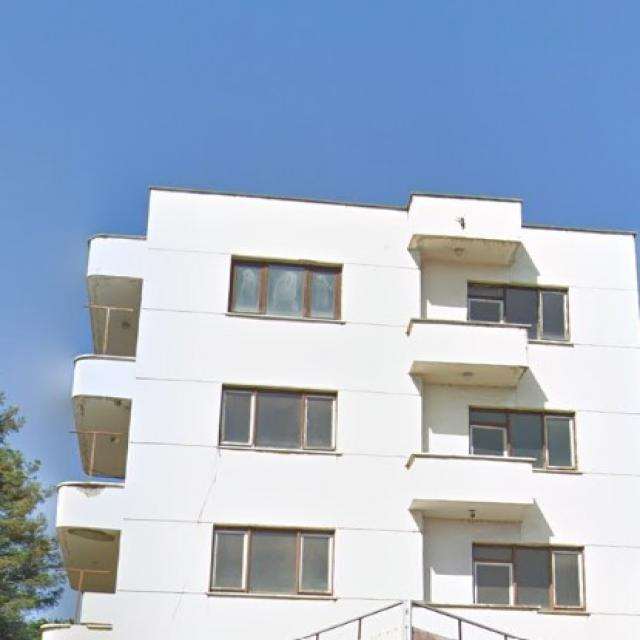Building: (41, 187, 640, 640)
